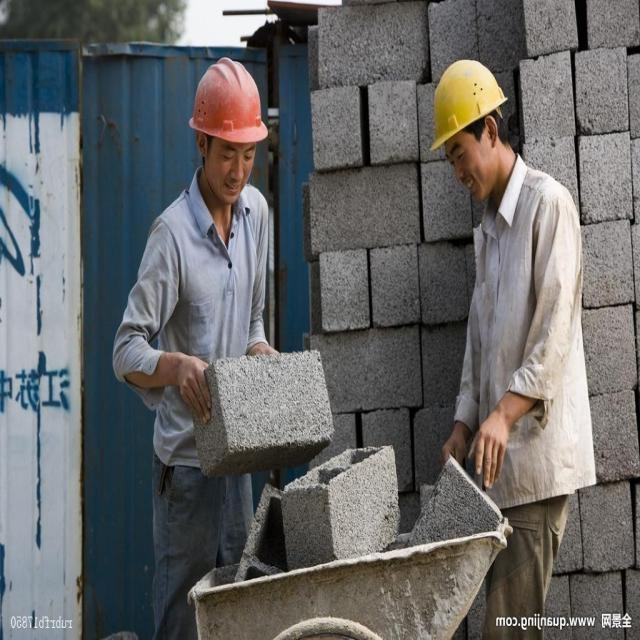Con_Casco: (189, 57, 271, 196), (430, 59, 506, 196)
Sin_Chaleco: (472, 198, 589, 501), (154, 193, 265, 455)
